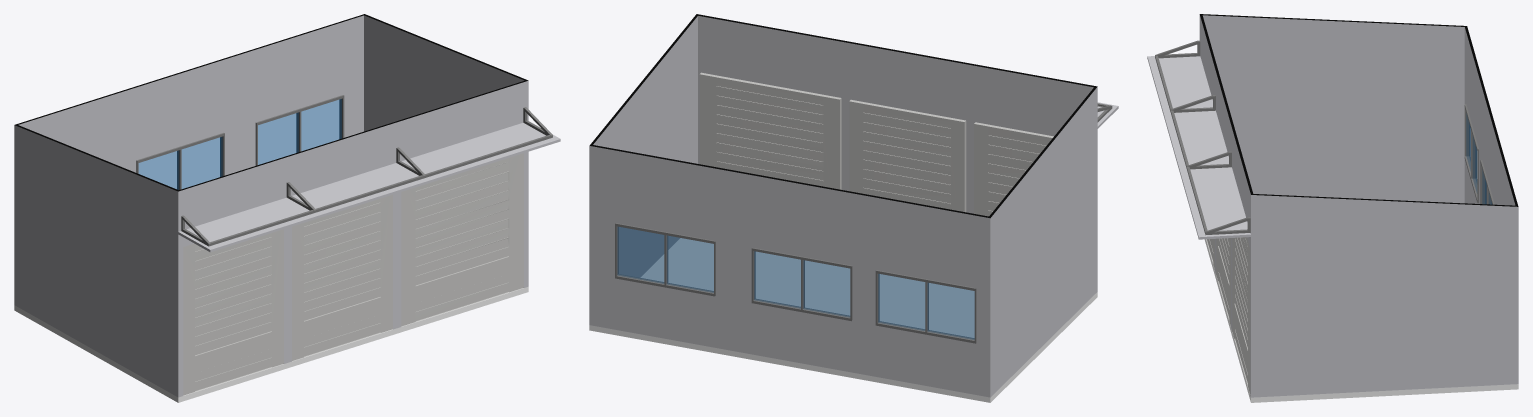
The picture shows the model from 3 angles, left to right: view 1: azimuth 30°, elevation 25°; view 2: azimuth 150°, elevation 25°; view 3: azimuth 270°, elevation 25°; orthographic projection.
Visible parts, largest first — view 1: V_폐기물저장소_18동_벽, V_폐기물저장소_18동_셔터, V_폐기물저장소_18동_캐노피, V_폐기물저장소_18동_창문, V_폐기물저장소_18동_바닥; view 2: V_폐기물저장소_18동_벽, V_폐기물저장소_18동_셔터, V_폐기물저장소_18동_창문, V_폐기물저장소_18동_바닥; view 3: V_폐기물저장소_18동_벽, V_폐기물저장소_18동_캐노피, V_폐기물저장소_18동_셔터, V_폐기물저장소_18동_바닥, V_폐기물저장소_18동_창문.
Boxes of the visible parts, x1,y1,x2,y2 form: V_폐기물저장소_18동_벽: (14, 14, 528, 397); V_폐기물저장소_18동_셔터: (183, 153, 523, 395); V_폐기물저장소_18동_캐노피: (178, 107, 560, 252); V_폐기물저장소_18동_창문: (136, 95, 344, 189); V_폐기물저장소_18동_바닥: (14, 286, 528, 402); V_폐기물저장소_18동_벽: (589, 14, 1097, 397); V_폐기물저장소_18동_셔터: (699, 72, 1053, 216); V_폐기물저장소_18동_창문: (615, 223, 976, 343); V_폐기물저장소_18동_바닥: (589, 238, 1097, 402); V_폐기물저장소_18동_벽: (1199, 14, 1518, 397); V_폐기물저장소_18동_캐노피: (1147, 40, 1250, 239); V_폐기물저장소_18동_셔터: (1206, 237, 1250, 393); V_폐기물저장소_18동_바닥: (1204, 239, 1518, 402); V_폐기물저장소_18동_창문: (1464, 104, 1494, 204).
Size of the model in its own units: 8.65 by 4.26 by 6.89.
